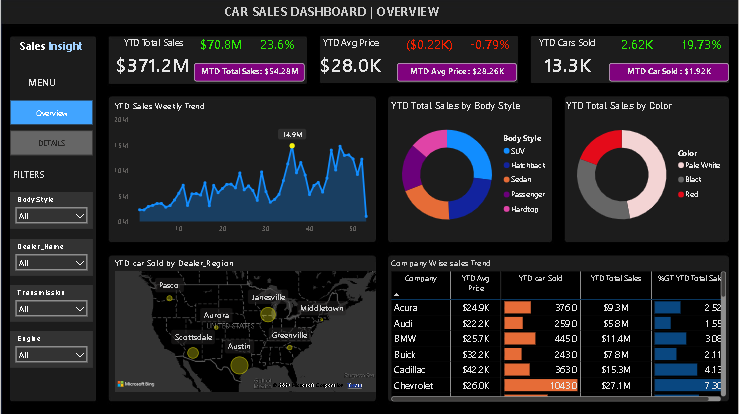

Layout of this report page (visuals, bound fields, positions):
{"tool":"powerbi","page":{"name":"Overview","canvas":[1280,720],"ordinal":0},"visuals":[{"type":"card","title":" YTD Total Sales","fields":{"Values":["Car_data.YTD Total Sales"]},"box":[192,64,144,80],"z":0},{"type":"card","fields":{"Values":["Car_data.Sales Difference"]},"box":[336,64,96,32],"z":1000},{"type":"card","fields":{"Values":["Car_data.YOY Sales Growth"]},"box":[432,64,96,32],"z":2000},{"type":"card","fields":{"Values":["Car_data.MTD KPI"]},"box":[336,112,192,32],"z":3000},{"type":"card","title":" YTD Avg Price","fields":{"Values":["Car_data.YTD Avg Price"]},"box":[544,64,128,80],"z":4000},{"type":"card","fields":{"Values":["Car_data.Avg price Diff"]},"box":[688,64,112,32],"z":5000},{"type":"card","fields":{"Values":["Car_data.YoY Avg Price Growth"]},"box":[800,64,96,32],"z":6000},{"type":"card","fields":{"Values":["Car_data.MTD Avg price KPI"]},"box":[688,112,208,32],"z":7000},{"type":"card","title":" YTD Cars Sold","fields":{"Values":["Car_data.YTD car Sold"]},"box":[912,64,144,80],"z":8000},{"type":"card","fields":{"Values":["Car_data.Car Sold Diff"]},"box":[1056,64,96,32],"z":9000},{"type":"card","fields":{"Values":["Car_data.YoY Car Sold"]},"box":[1168,64,96,32],"z":10000},{"type":"card","fields":{"Values":["Car_data.MTD Cars Sold KPI"]},"box":[1056,112,208,32],"z":11000},{"type":"areaChart","title":"YTD Sales Weekly Trend","fields":{"Category":["calendar Table.Week"],"Y":["Sum(Car_data.Price ($))","Car_data.Max point"]},"box":[192,176,464,240],"z":12000},{"type":"donutChart","fields":{"Category":["Car_data.Body Style"],"Y":["Car_data.YTD Total Sales"]},"box":[672,176,288,240],"z":13000},{"type":"donutChart","fields":{"Y":["Car_data.YTD Total Sales"],"Category":["Car_data.Color"]},"box":[976,176,288,240],"z":14000},{"type":"map","fields":{"Category":["Car_data.Dealer_Region"],"Size":["Car_data.YTD car Sold"]},"box":[192,448,464,240],"z":15000},{"type":"tableEx","title":"Company Wise sales Trend","fields":{"Values":["Car_data.Company","Car_data.YTD Avg Price","Car_data.YTD car Sold","Car_data.YTD Total Sales","Divide(Car_data.YTD Total Sales, ScopedEval(Car_data.YTD Total Sales, []))"]},"box":[672,448,592,256],"z":16000},{"type":"textbox","box":[384,0,464,48],"z":17000},{"type":"slicer","fields":{"Values":["Car_data.Body Style"]},"box":[16,336,144,64],"z":18000},{"type":"slicer","fields":{"Values":["Car_data.Dealer_Name"]},"box":[16,416,144,64],"z":19000},{"type":"slicer","fields":{"Values":["Car_data.Transmission"]},"box":[16,496,144,64],"z":20000},{"type":"slicer","fields":{"Values":["Car_data.Engine"]},"box":[16,576,144,64],"z":21000},{"type":"textbox","box":[16,288,144,32],"z":22000},{"type":"pageNavigator","box":[16,176,144,96],"z":23000},{"type":"textbox","box":[16,64,144,48],"z":24000},{"type":"textbox","box":[32,128,80,32],"z":25000}]}

Visuals, with their boxes in screenshot pixels (x1, y1, x2, y2), scaled from the page's 1280x720 canvas onto the 739x414 screenshot:
" YTD Total Sales" card: x1=111, y1=37, x2=194, y2=83
card - Car_data.Sales Difference: x1=194, y1=37, x2=249, y2=55
card - Car_data.YOY Sales Growth: x1=249, y1=37, x2=305, y2=55
card - Car_data.MTD KPI: x1=194, y1=64, x2=305, y2=83
" YTD Avg Price" card: x1=314, y1=37, x2=388, y2=83
card - Car_data.Avg price Diff: x1=397, y1=37, x2=462, y2=55
card - Car_data.YoY Avg Price Growth: x1=462, y1=37, x2=517, y2=55
card - Car_data.MTD Avg price KPI: x1=397, y1=64, x2=517, y2=83
" YTD Cars Sold" card: x1=527, y1=37, x2=610, y2=83
card - Car_data.Car Sold Diff: x1=610, y1=37, x2=665, y2=55
card - Car_data.YoY Car Sold: x1=674, y1=37, x2=730, y2=55
card - Car_data.MTD Cars Sold KPI: x1=610, y1=64, x2=730, y2=83
"YTD Sales Weekly Trend" areaChart: x1=111, y1=101, x2=379, y2=239
donutChart - Car_data.Body Style x Car_data.YTD Total Sales: x1=388, y1=101, x2=554, y2=239
donutChart - Car_data.YTD Total Sales x Car_data.Color: x1=563, y1=101, x2=730, y2=239
map - Car_data.Dealer_Region x Car_data.YTD car Sold: x1=111, y1=258, x2=379, y2=396
"Company Wise sales Trend" tableEx: x1=388, y1=258, x2=730, y2=405
textbox: x1=222, y1=0, x2=490, y2=28
slicer - Car_data.Body Style: x1=9, y1=193, x2=92, y2=230
slicer - Car_data.Dealer_Name: x1=9, y1=239, x2=92, y2=276
slicer - Car_data.Transmission: x1=9, y1=285, x2=92, y2=322
slicer - Car_data.Engine: x1=9, y1=331, x2=92, y2=368
textbox: x1=9, y1=166, x2=92, y2=184
pageNavigator: x1=9, y1=101, x2=92, y2=156
textbox: x1=9, y1=37, x2=92, y2=64
textbox: x1=18, y1=74, x2=65, y2=92
